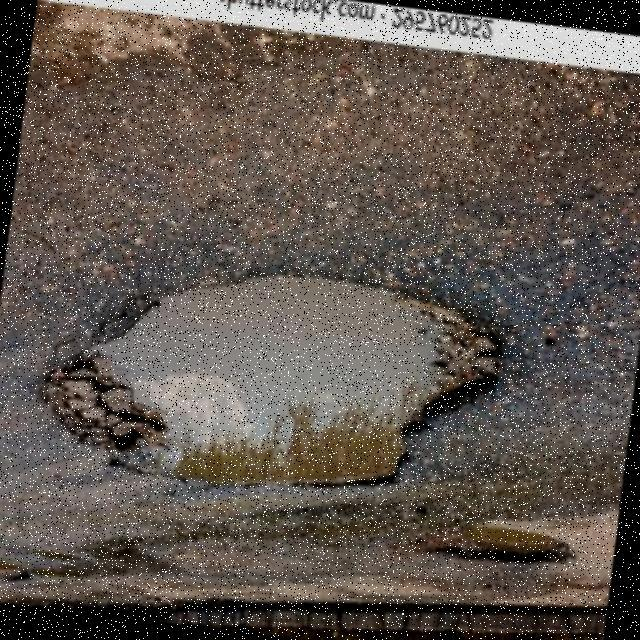Pothole: (46, 278, 502, 488), (413, 527, 575, 563)
